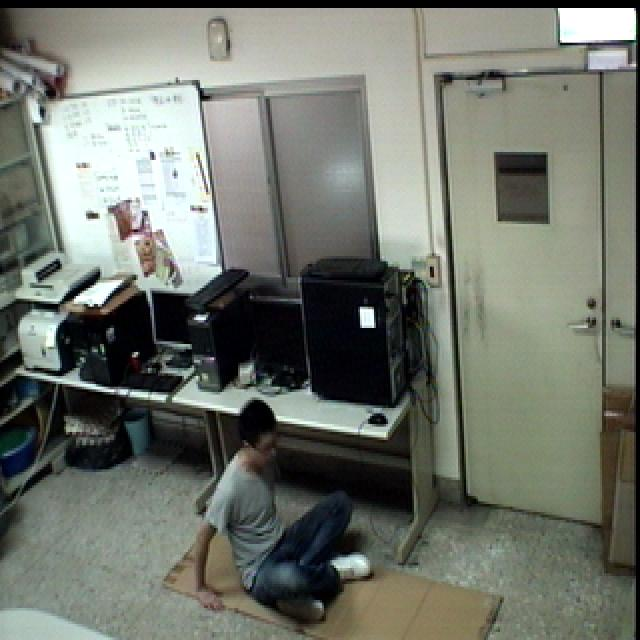sit: (192, 399, 376, 632)
